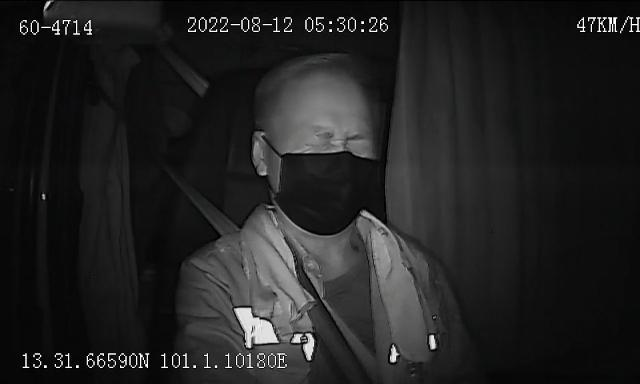Seatbelt: (171, 172, 301, 384)
